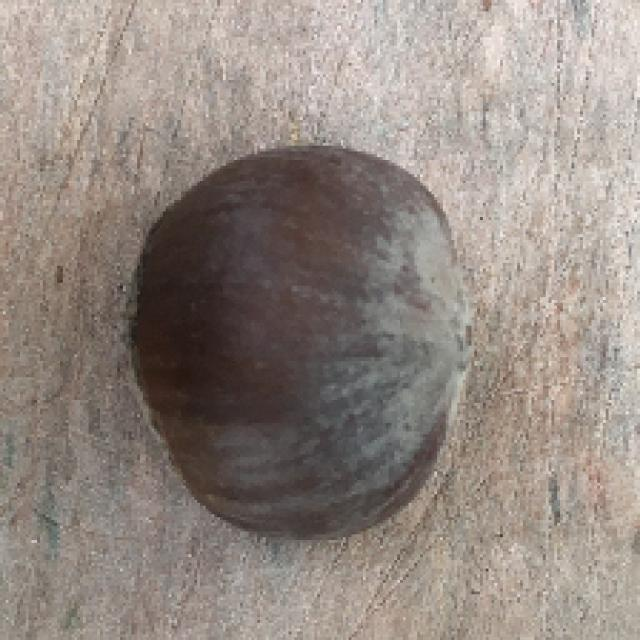damagedHazelnut: (128, 137, 476, 545)
